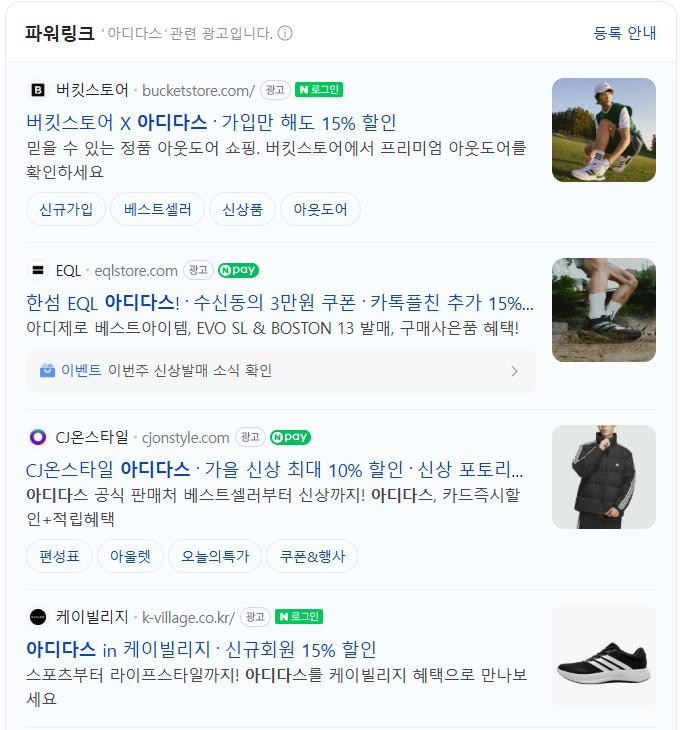button: (28, 456, 535, 485), (26, 291, 534, 316), (27, 637, 380, 662), (26, 113, 394, 136), (109, 197, 192, 225), (279, 199, 361, 227), (585, 21, 673, 47), (26, 192, 102, 220), (201, 197, 274, 225), (171, 547, 252, 572), (274, 545, 344, 565), (102, 549, 156, 570), (35, 548, 80, 567), (273, 23, 292, 37)
